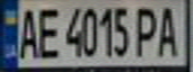0: (81, 2, 100, 57)
1: (96, 2, 115, 57)
4: (60, 2, 84, 57)
5: (112, 2, 133, 57)
A: (12, 2, 42, 61), (154, 1, 184, 58)
E: (33, 2, 63, 60)
P: (133, 2, 163, 58)
